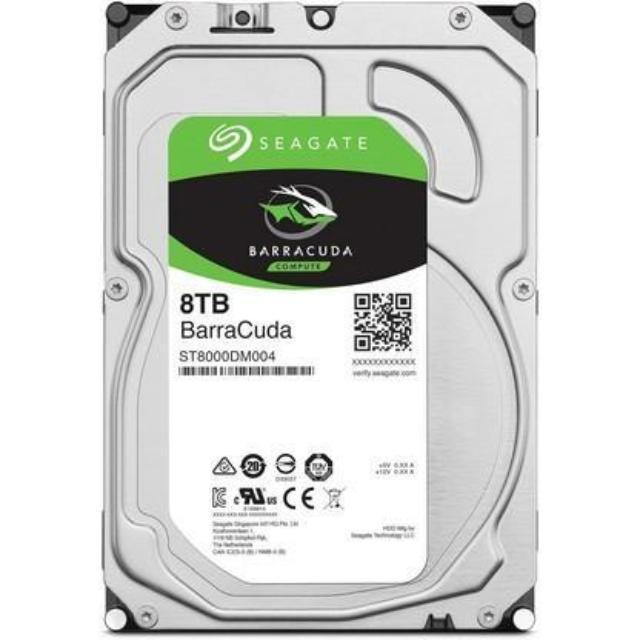DISK: (90, 0, 545, 640)
